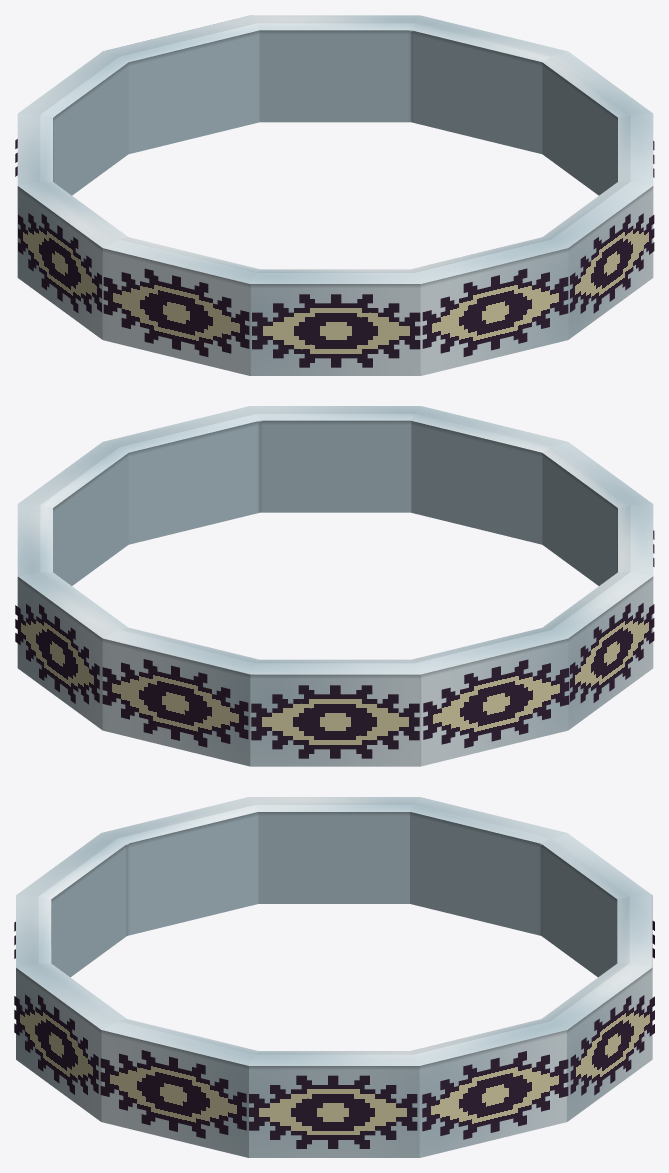
File: angelRings.fbx
3 renders of one model, top to bottom at view 1: azimuth 30°, elevation 25°; view 2: azimuth 150°, elevation 25°; view 3: azimuth 270°, elevation 25°, orthographic.
Parts seen in each view (by area): view 1: torus, plane_2, plane_6, plane, plane_8, plane_5; view 2: torus, plane_11, plane_9, plane_3, plane_5, plane_7; view 3: torus, plane_1, plane_10, plane_4, plane_7, plane_8.
Boxes of the visible parts, x1,y1,x2,y2 form: torus: (17,15,653,375); plane_2: (252,294,420,367); plane_6: (103,268,249,356); plane: (422,268,568,356); plane_8: (570,213,654,313); plane_5: (18,213,101,313); torus: (17,406,653,766); plane_11: (251,685,419,758); plane_9: (423,659,569,748); plane_3: (102,659,248,747); plane_5: (570,603,654,703); plane_7: (15,604,99,704); torus: (16,797,652,1157); plane_1: (249,1075,417,1148); plane_10: (422,1051,568,1139); plane_4: (100,1050,246,1138); plane_7: (570,995,654,1095); plane_8: (14,994,98,1094).
Size of the model in its own units: 179 by 29.23 by 178.
Materials: 2 (2 with a texture image).
